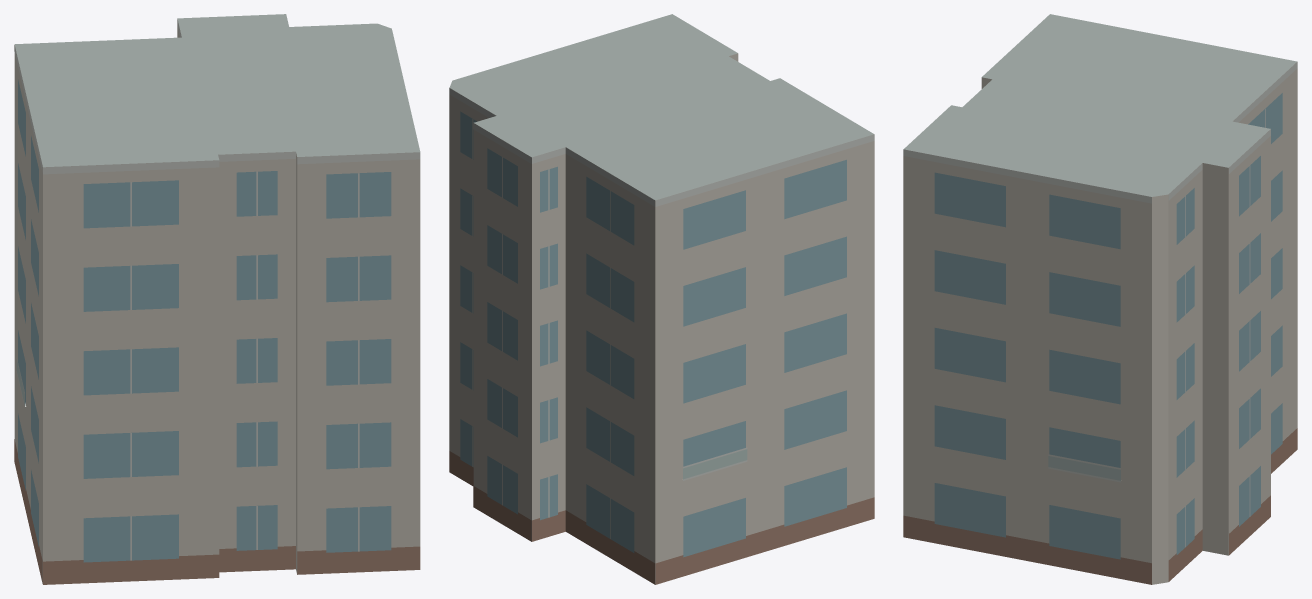
Rendered from survey-upis-32668605.glb.
3 renders of one model, left to right at view 1: azimuth 30°, elevation 25°; view 2: azimuth 150°, elevation 25°; view 3: azimuth 270°, elevation 25°, orthographic. The views are drawn at different scales.
Visible parts, largest first — view 1: survey-upis-32668605.tmp; view 2: survey-upis-32668605.tmp; view 3: survey-upis-32668605.tmp.
Part boxes in pixels (box(x1,y1,x2,y2)): survey-upis-32668605.tmp: box(14, 14, 420, 584); survey-upis-32668605.tmp: box(449, 14, 874, 584); survey-upis-32668605.tmp: box(903, 14, 1297, 584).
Bounding box in the file's own units: 14.43 × 14.25 × 13.13.
